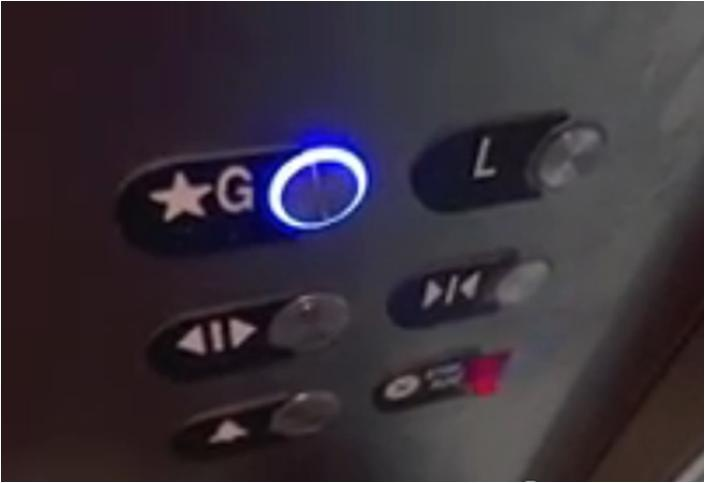L: (409, 101, 612, 217)
alarm: (175, 387, 344, 464)
close: (386, 244, 558, 328)
open: (147, 287, 351, 384)
sG: (114, 134, 378, 260)
stop: (368, 343, 521, 418)
